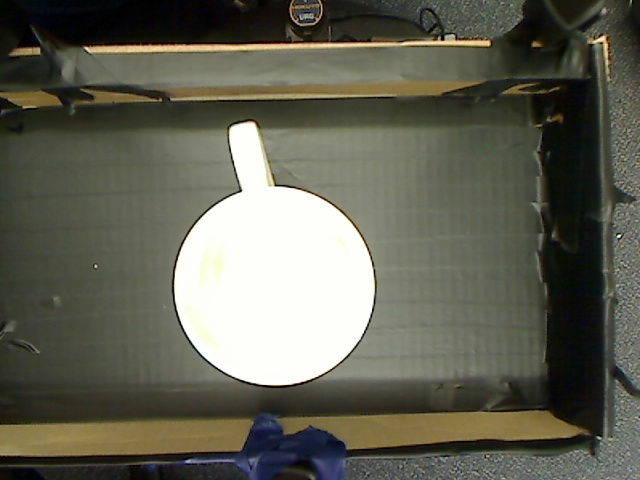mug: (150, 111, 403, 403)
